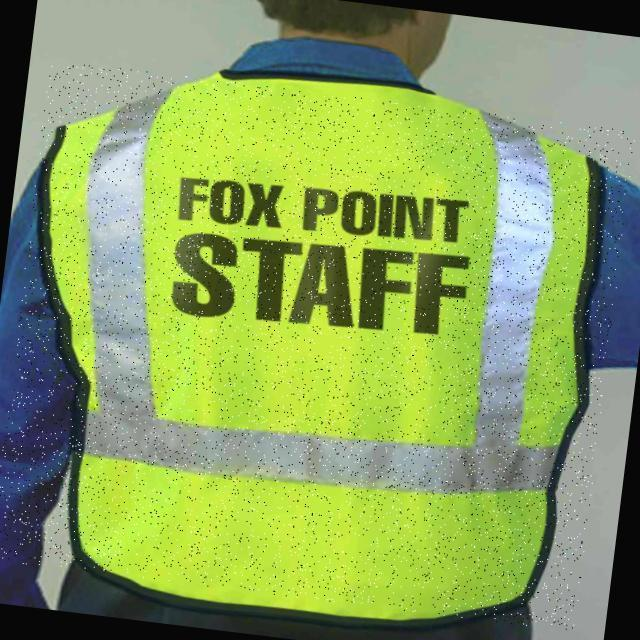vest: (0, 59, 635, 631)
